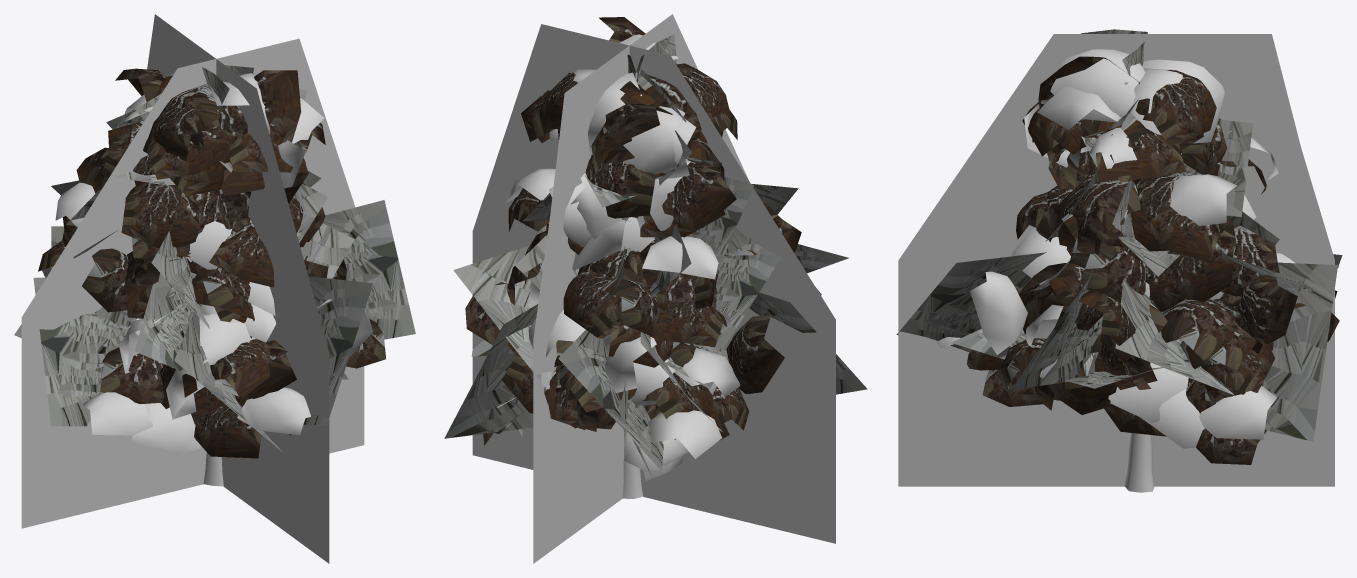
File: Birch1.fbx
3 views of the same model, side by side, from view 1: azimuth 30°, elevation 25°; view 2: azimuth 150°, elevation 25°; view 3: azimuth 270°, elevation 25° (orthographic). The views are drawn at different scales.
Parts seen in each view (by area): view 1: LOD0, Billboard; view 2: LOD0, Billboard; view 3: LOD0, Billboard.
Boxes of the visible parts, <box> form: LOD0: <box>14,65,415,486</box>; Billboard: <box>21,14,364,563</box>; LOD0: <box>444,17,867,498</box>; Billboard: <box>472,14,835,563</box>; LOD0: <box>896,29,1342,492</box>; Billboard: <box>898,34,1334,486</box>.
Size of what is drawn, in the model's own units: 825 by 949 by 848.
